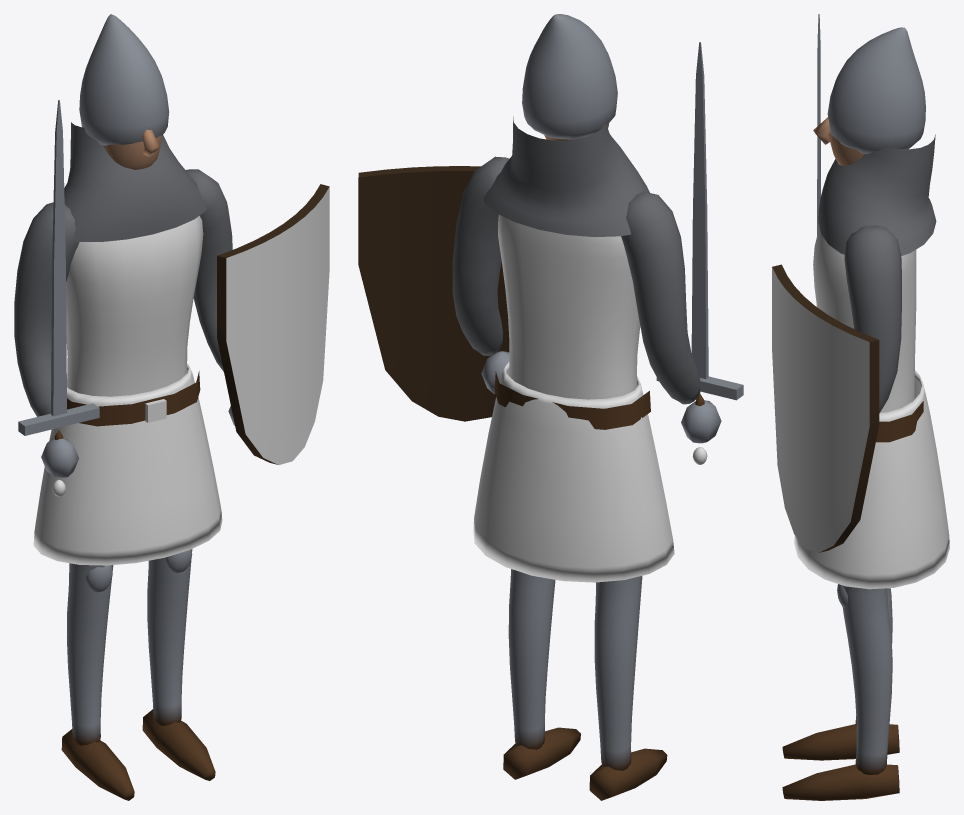
The model's file is infantry_0.glb.
3 renders of one model, left to right at view 1: azimuth 30°, elevation 25°; view 2: azimuth 150°, elevation 25°; view 3: azimuth 270°, elevation 25°, orthographic. The views are drawn at different scales.
Parts seen in each view (by area): view 1: infantry_0; view 2: infantry_0; view 3: infantry_0.
Boxes of the visible parts, x1,y1,x2,y2 form: infantry_0: (14,14,329,800); infantry_0: (358,14,743,800); infantry_0: (772,14,949,800).
Size of the model in its own units: 0.8887 by 1.88 by 0.4017.
